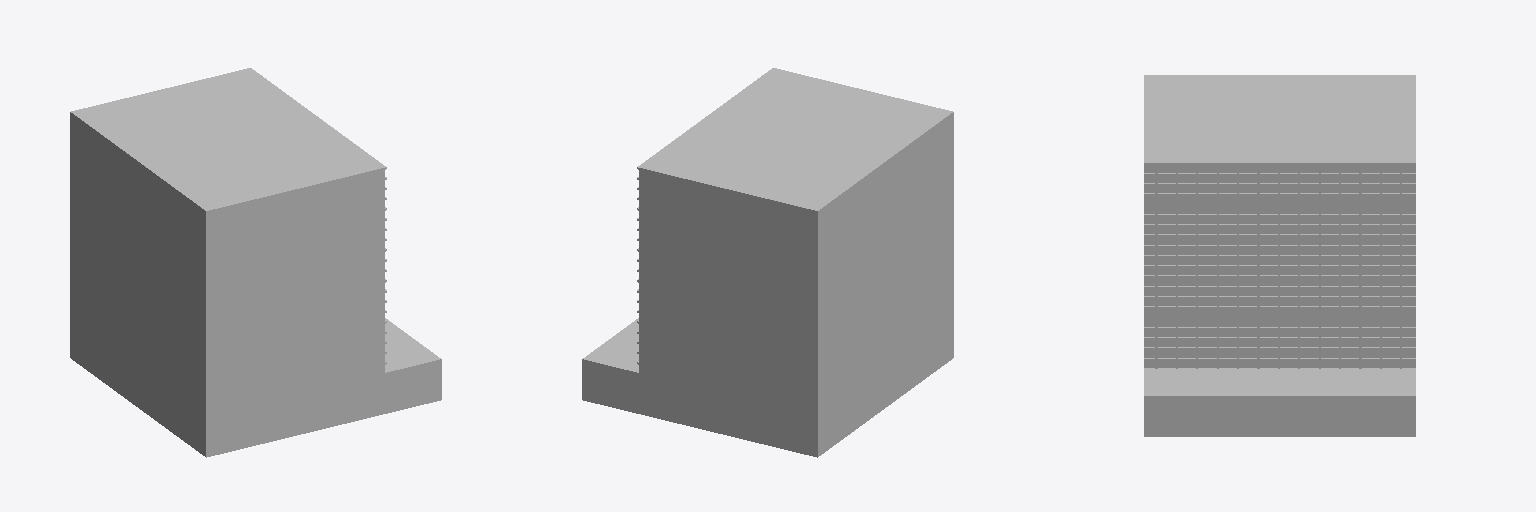
The model's file is 3d fon 1.1-22.obj.
3 renders of one model, left to right at view 1: azimuth 30°, elevation 25°; view 2: azimuth 150°, elevation 25°; view 3: azimuth 270°, elevation 25°, orthographic.
Parts seen in each view (by area): view 1: object 1; view 2: object 1; view 3: object 1.
Boxes of the visible parts, x1=… form: object 1: x1=70, y1=68, x2=441, y2=457; object 1: x1=582, y1=68, x2=953, y2=457; object 1: x1=1144, y1=75, x2=1415, y2=436.
Size of the model in its own units: 12 by 12 by 12.